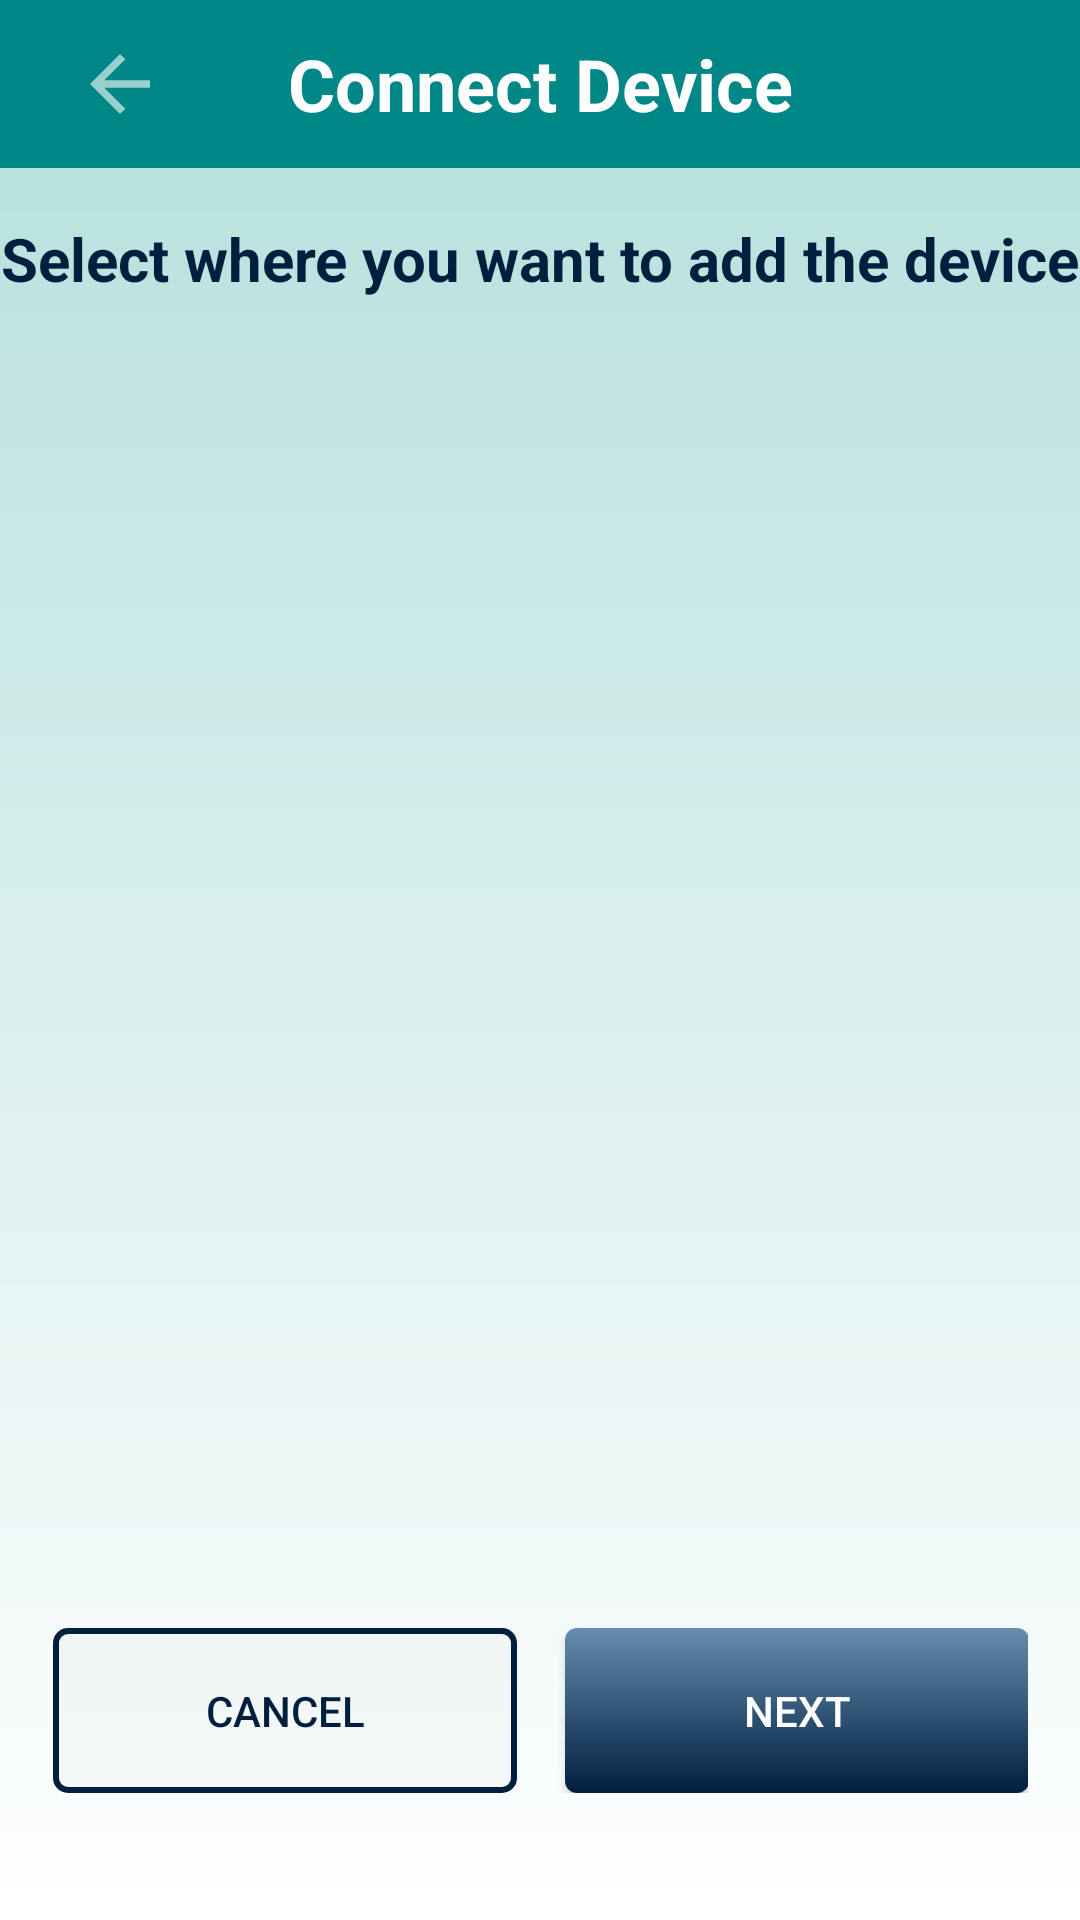

Icons on this 1080px x 1920px Android screen, each with the point to tap as point (x, y):
Back Button: point (120, 84)
